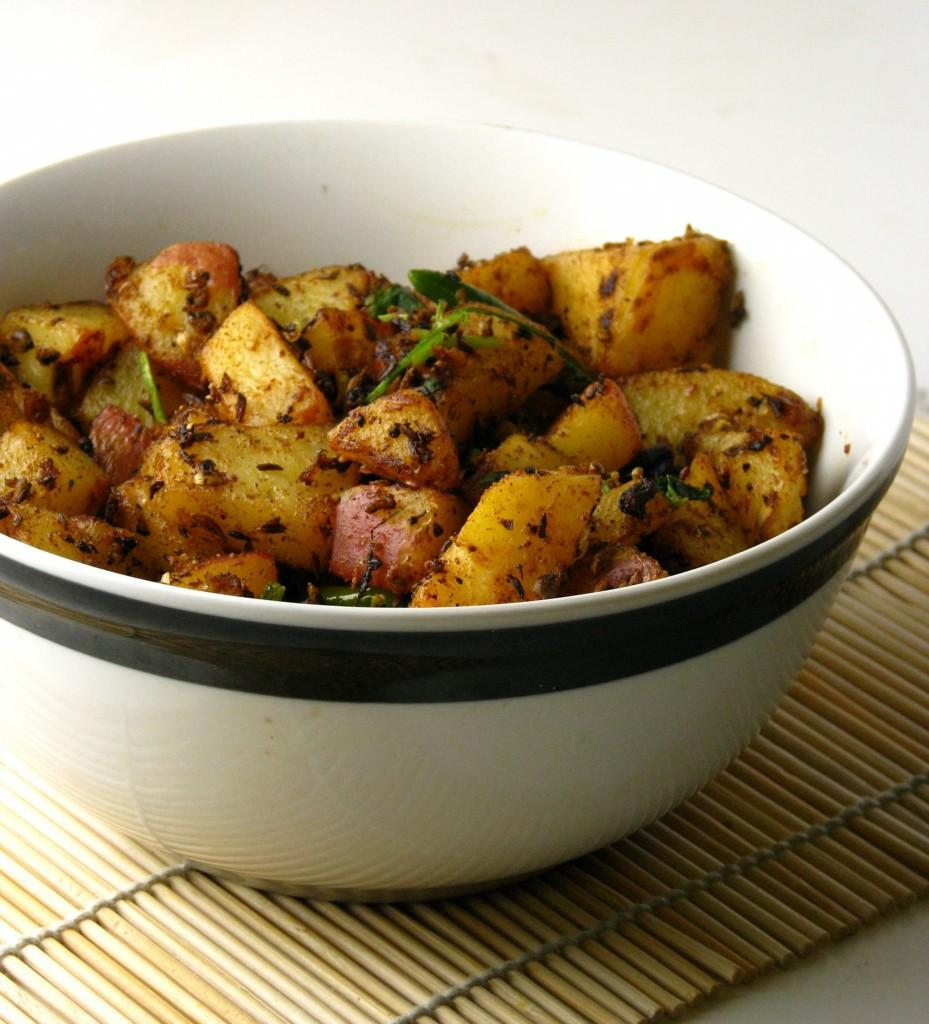AlooMasala: (0, 227, 828, 610)
